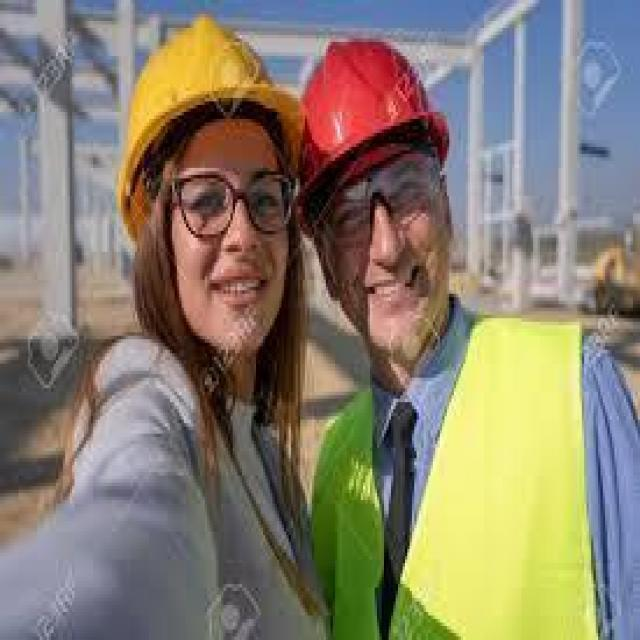hat: (116, 10, 308, 203), (290, 38, 450, 217)
